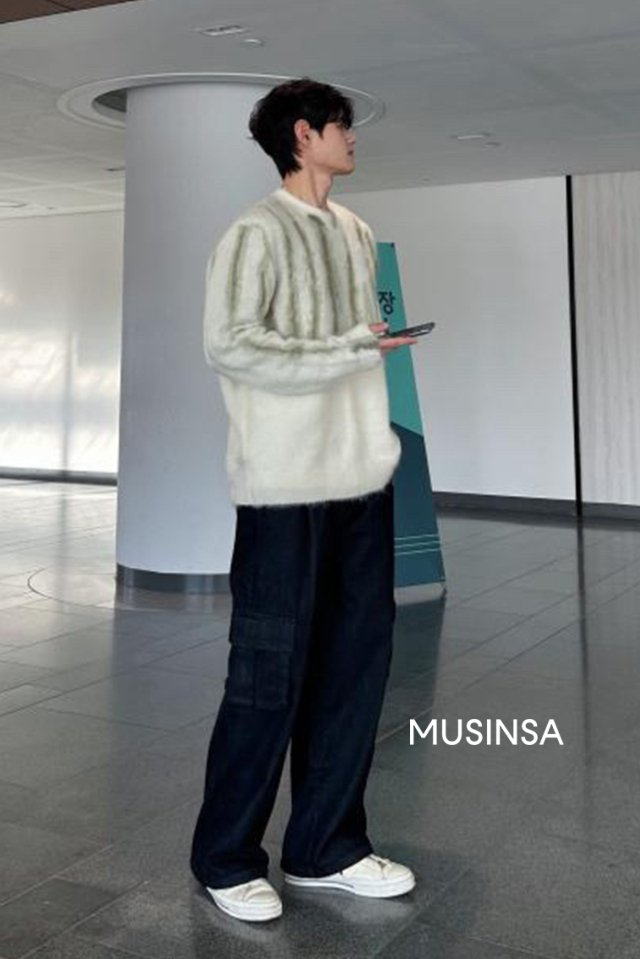Pants: (191, 478, 395, 885)
Shoes: (187, 855, 415, 925)
Top: (197, 183, 411, 501)
